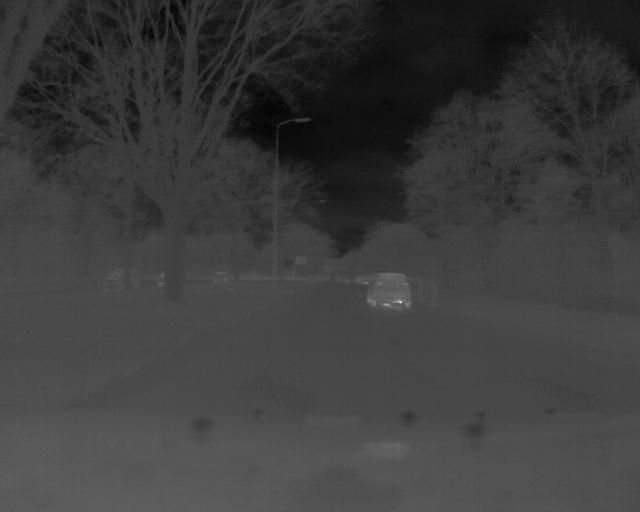car: (364, 267, 417, 313)
